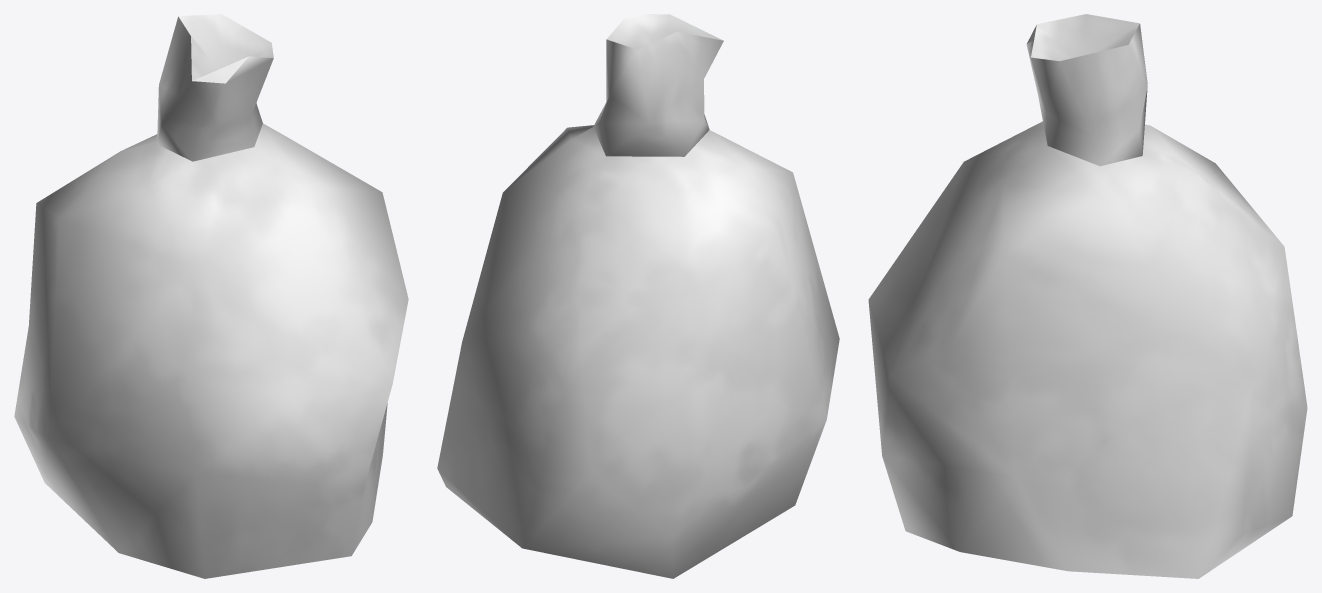
File: Prfb_Bags__2.fbx
The picture shows the model from 3 angles, left to right: view 1: azimuth 30°, elevation 25°; view 2: azimuth 150°, elevation 25°; view 3: azimuth 270°, elevation 25°; orthographic projection. The views are drawn at different scales.
Parts seen in each view (by area): view 1: Mat_Bags_01_1; view 2: Mat_Bags_01_1; view 3: Mat_Bags_01_1.
Part boxes in pixels (x1,y1,x2,y2): Mat_Bags_01_1: (14, 14, 408, 578); Mat_Bags_01_1: (437, 14, 839, 578); Mat_Bags_01_1: (868, 14, 1307, 578).
Bounding box in the file's own units: 0.5935 × 0.831 × 0.6701.
1 material, 1 textured.
